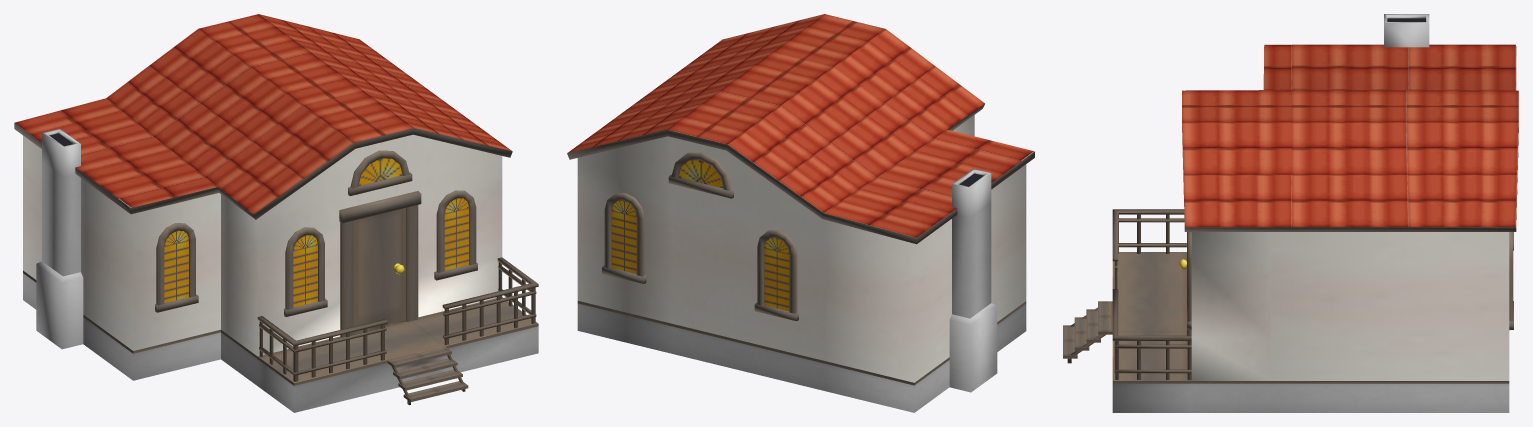
File: Town House (Large) Variant 1.fbx
The picture shows the model from 3 angles, left to right: view 1: azimuth 30°, elevation 25°; view 2: azimuth 150°, elevation 25°; view 3: azimuth 270°, elevation 25°; orthographic projection. The views are drawn at different scales.
Visible parts, largest first — view 1: Town House 1 V1; view 2: Town House 1 V1; view 3: Town House 1 V1.
Part boxes in pixels (x1,y1,x2,y2): Town House 1 V1: [14, 14, 538, 412]; Town House 1 V1: [567, 14, 1034, 412]; Town House 1 V1: [1063, 14, 1518, 412].
Bounding box in the file's own units: 826 × 490 × 836.
1 material, 1 textured.
